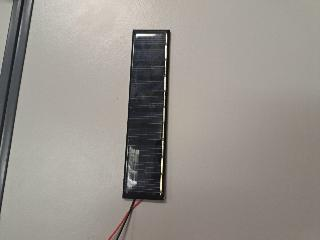solarboard: (123, 30, 169, 200)
